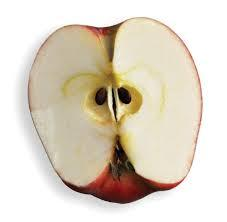Apple: (24, 14, 204, 206)
